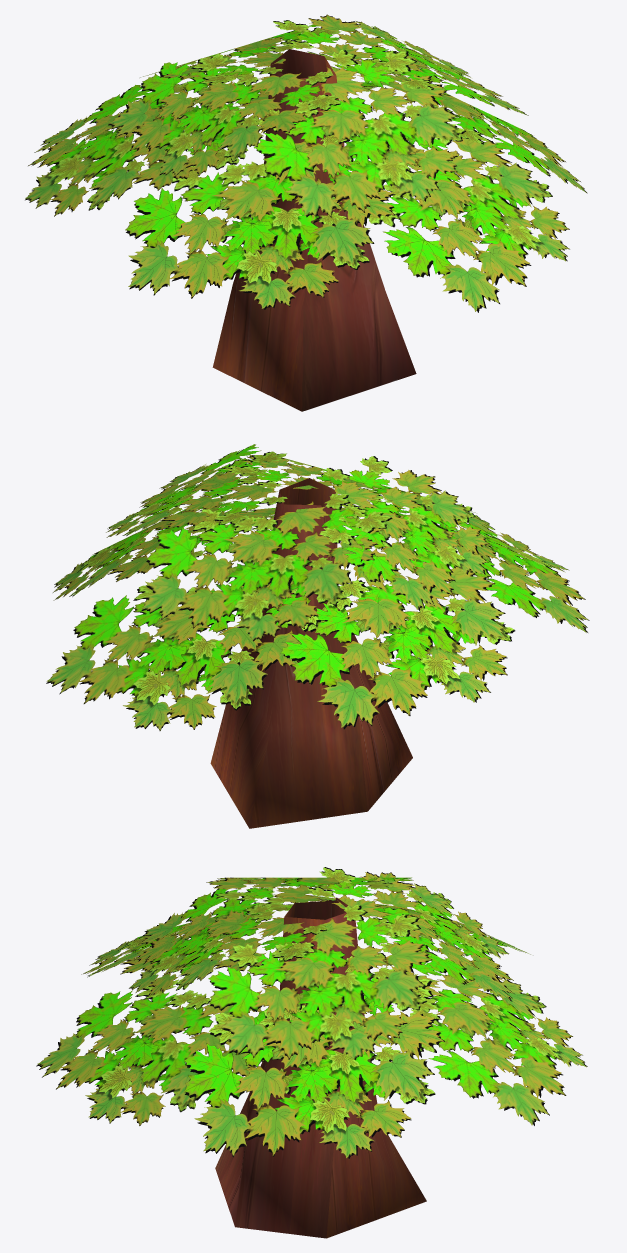
Rendered from Tree_Little_Green_One.fbx.
3 renders of one model, top to bottom at view 1: azimuth 30°, elevation 25°; view 2: azimuth 150°, elevation 25°; view 3: azimuth 270°, elevation 25°, orthographic. The views are drawn at different scales.
Parts seen in each view (by area): view 1: Little Tree Green; view 2: Little Tree Green; view 3: Little Tree Green.
Part boxes in pixels (x1,y1,x2,y2): Little Tree Green: (25, 14, 587, 411); Little Tree Green: (46, 444, 589, 828); Little Tree Green: (36, 867, 587, 1238).
Bounding box in the file's own units: 11.92 × 6.83 × 12.4.
